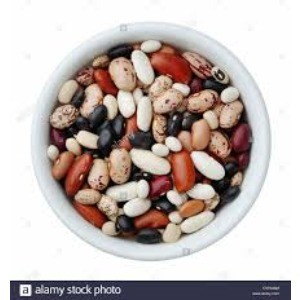beans_brain food: (77, 95, 233, 184)
